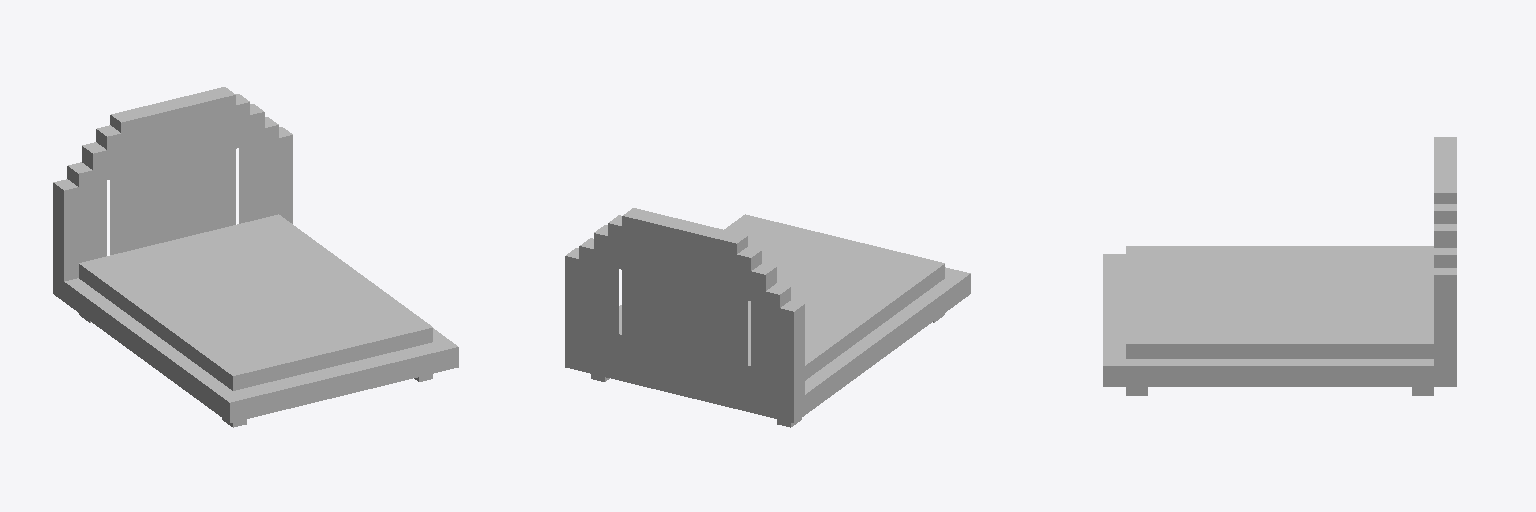
Rendered from lit.obj.
3 renders of one model, left to right at view 1: azimuth 30°, elevation 25°; view 2: azimuth 150°, elevation 25°; view 3: azimuth 270°, elevation 25°, orthographic.
Visible parts, largest first — view 1: Cube_Cube.001; view 2: Cube_Cube.001; view 3: Cube_Cube.001.
Part boxes in pixels (x1,y1,x2,y2): Cube_Cube.001: (53,87,458,427); Cube_Cube.001: (565,208,970,427); Cube_Cube.001: (1103,137,1456,395).
Size of the model in its own units: 4.48 by 3.4 by 5.98.